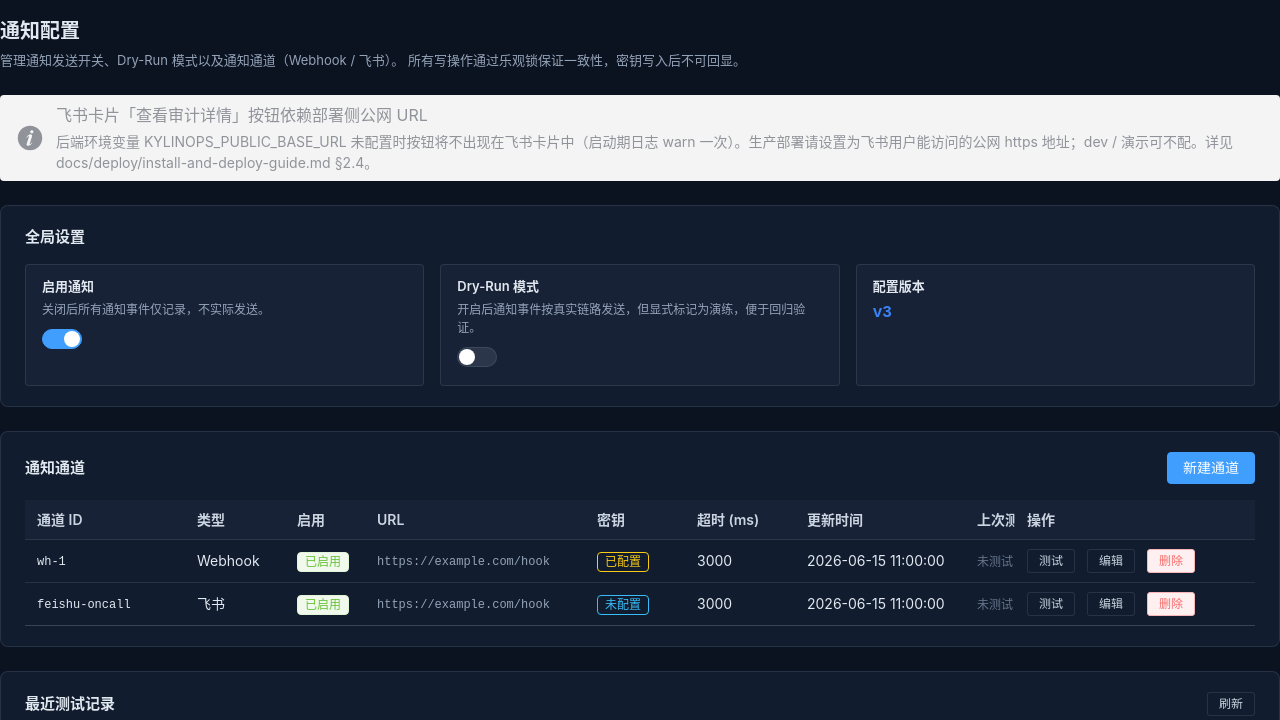
Scenario: NotificationSettings page — channel edit › opens the dialog pre-filled with the channel row values (secret field is EMPTY)
The image size is (1280, 720).
Click the button with test id "notification-channel-row-wh-1-edit" at (1111,561), box [1087,549,1135,573]
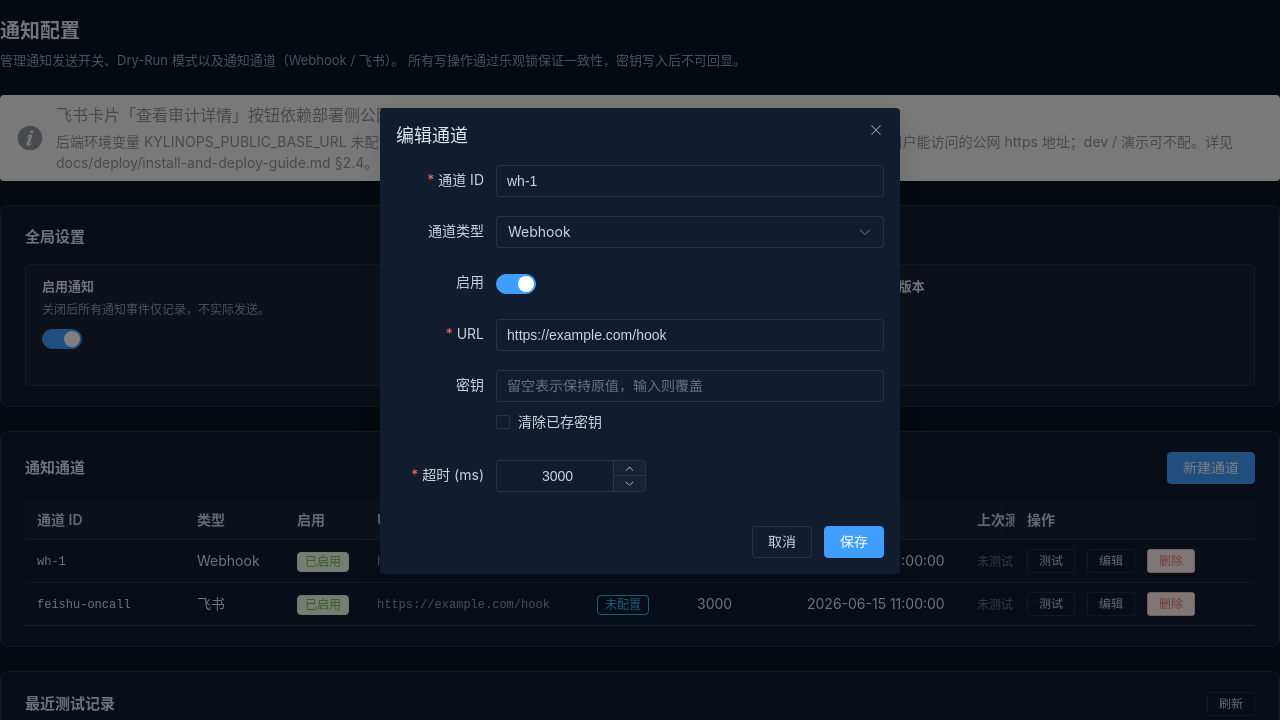
Now the element with test id "notification-channel-dialog" is shown, box [380,108,900,574]
Now the field labelled "通道 ID" holds "wh-1", box [507,166,873,196]
Now the field labelled "URL" holds "https://example.com/hook", box [507,320,873,350]
